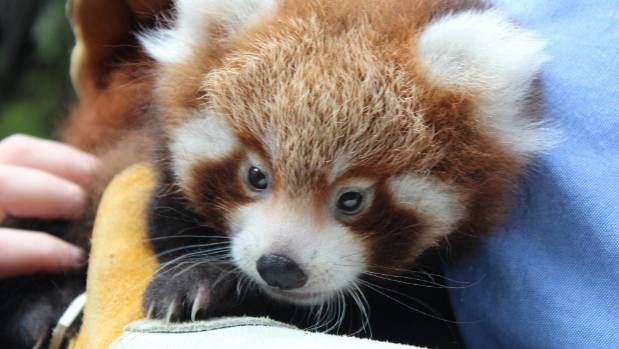red_panda: (111, 7, 547, 339)
